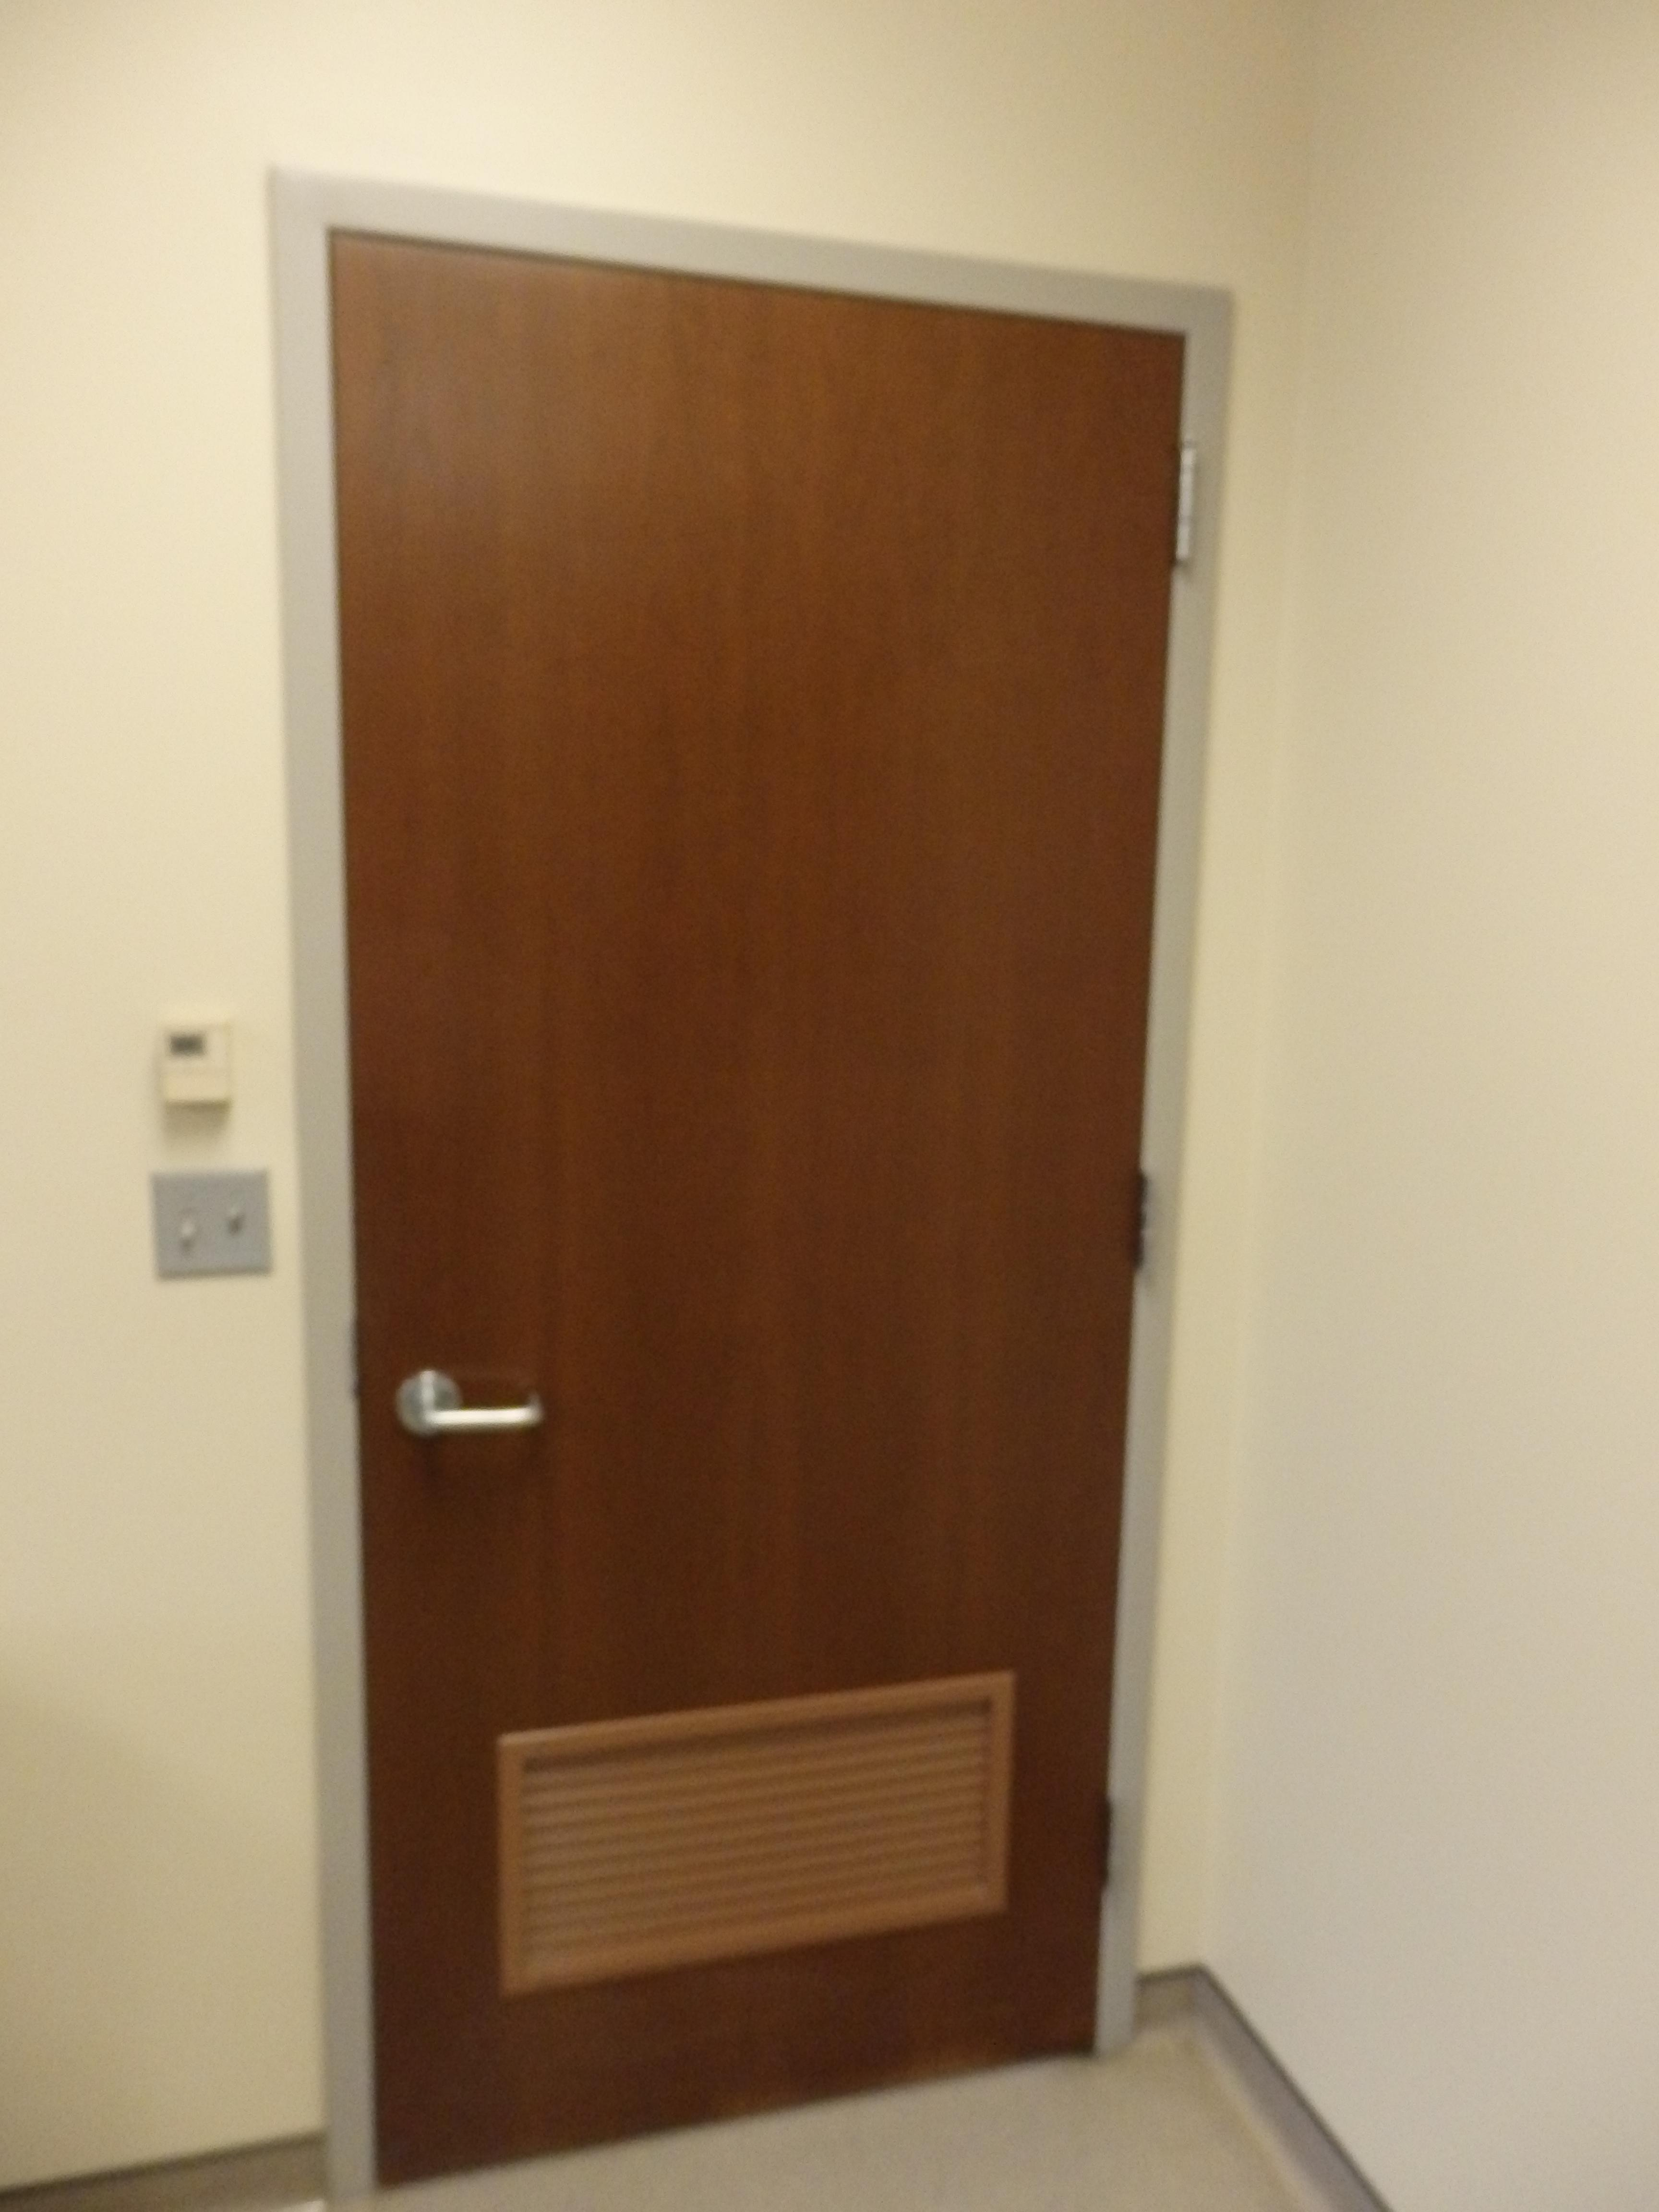door: (310, 212, 1185, 2189)
